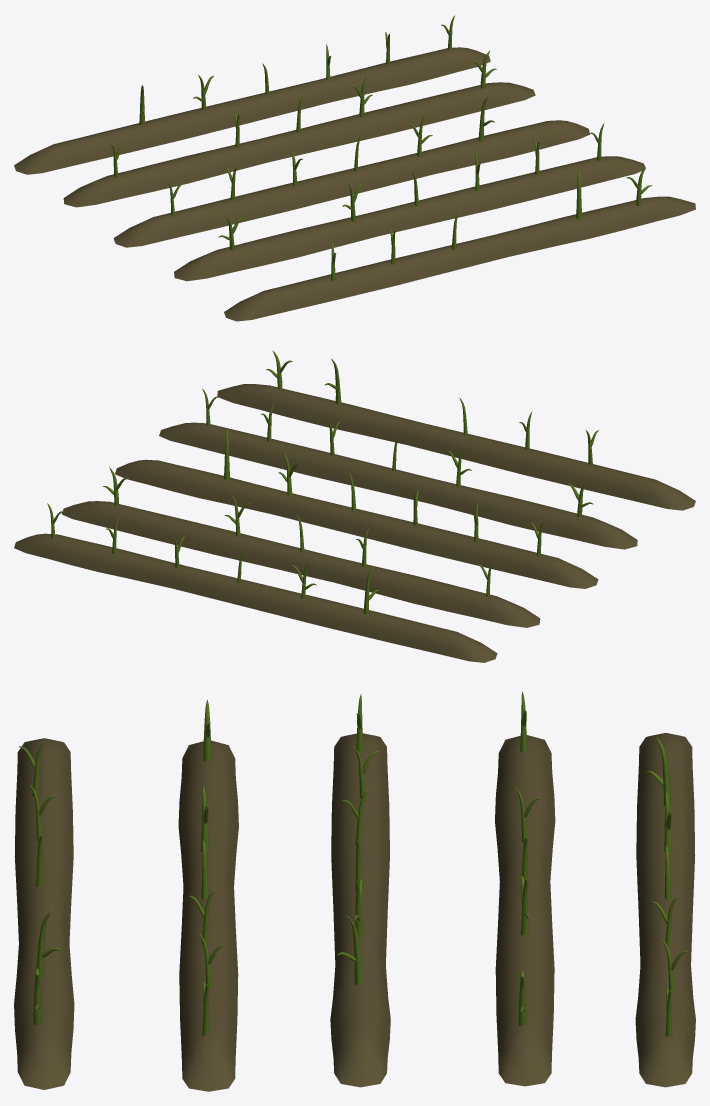
The model's file is Farm_Dirt_Level2.glb.
3 views of the same model, one above another, from view 1: azimuth 30°, elevation 25°; view 2: azimuth 150°, elevation 25°; view 3: azimuth 270°, elevation 25° (orthographic). The views are drawn at different scales.
Parts seen in each view (by area): view 1: Farm_Dirt_Level2; view 2: Farm_Dirt_Level2; view 3: Farm_Dirt_Level2.
Part boxes in pixels (left/top/right/bottom): Farm_Dirt_Level2: left=14, top=15, right=695, bottom=321; Farm_Dirt_Level2: left=14, top=350, right=695, bottom=662; Farm_Dirt_Level2: left=14, top=691, right=695, bottom=1091.
Bounding box in the file's own units: 1.79 × 0.2208 × 1.44.
